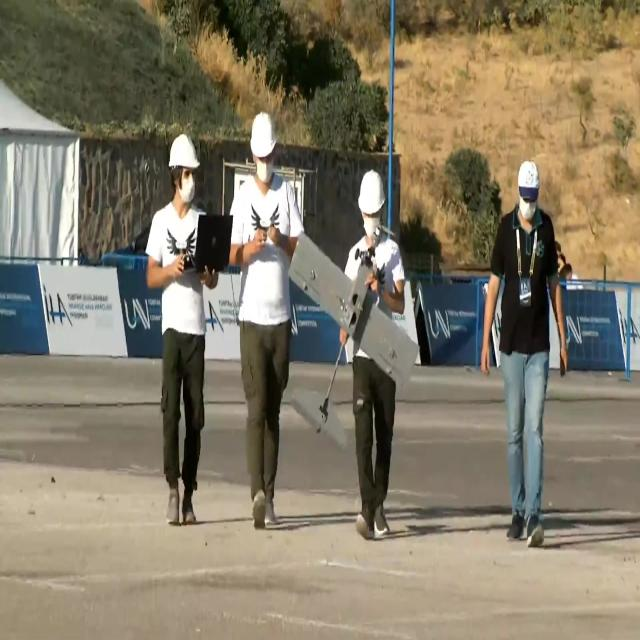iha: (287, 229, 421, 448)
